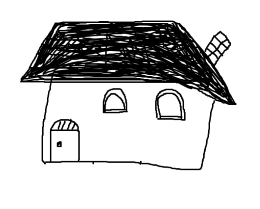chimney: (200, 24, 238, 71)
door: (47, 116, 86, 167)
open_window: (150, 84, 188, 125), (98, 86, 136, 119)
shaded_roof: (19, 20, 237, 106)
wall: (37, 82, 216, 173)
